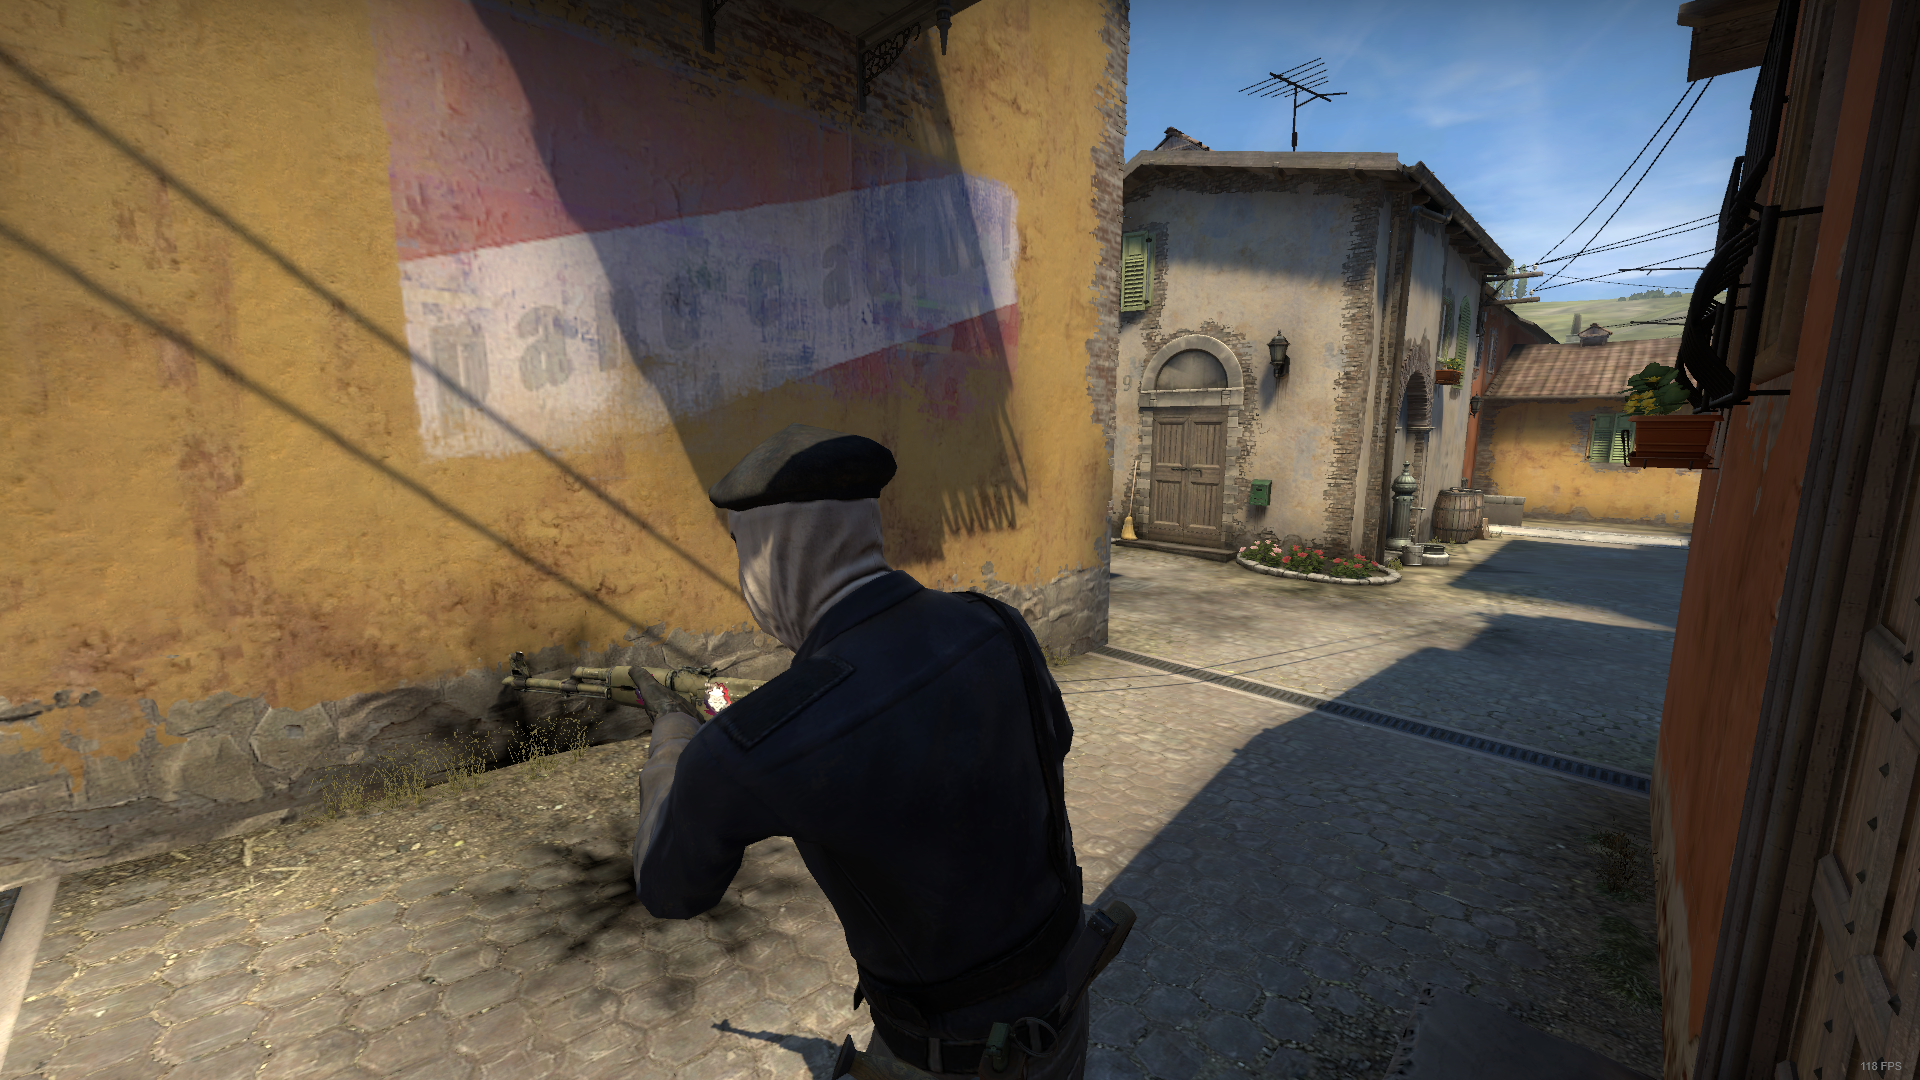t: (612, 419, 1133, 1080)
